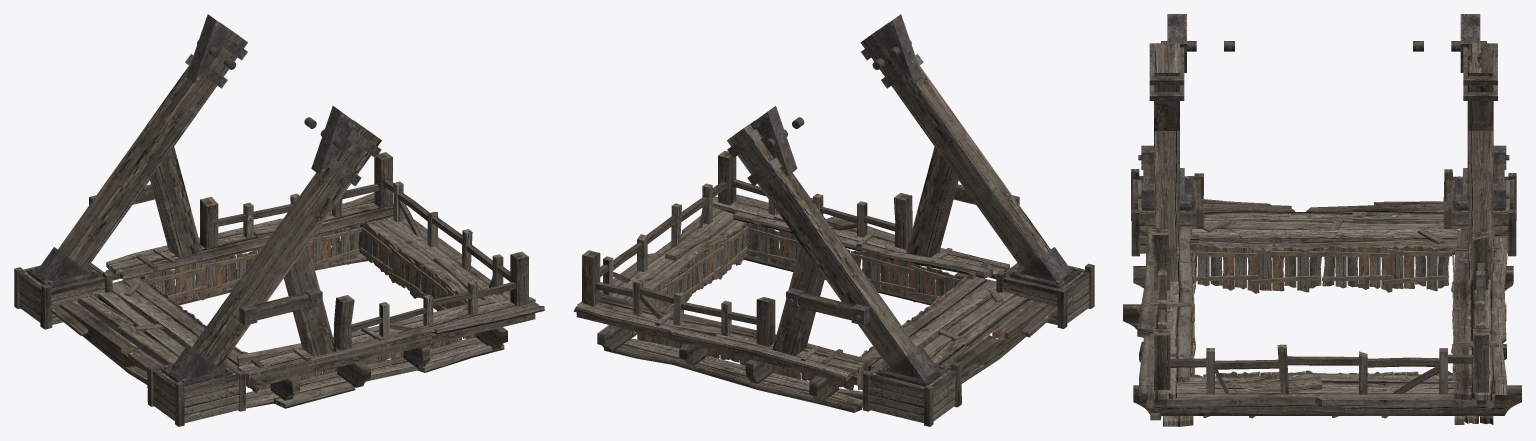
The model's file is bg_lut_lutomb_ev01a_sm_old.FBX.
3 renders of one model, left to right at view 1: azimuth 30°, elevation 25°; view 2: azimuth 150°, elevation 25°; view 3: azimuth 270°, elevation 25°, orthographic. The views are drawn at different scales.
Visible parts, largest first — view 1: bg_lut_lutomb_ev01a_sm_old; view 2: bg_lut_lutomb_ev01a_sm_old; view 3: bg_lut_lutomb_ev01a_sm_old.
Part boxes in pixels (x1,y1,x2,y2): bg_lut_lutomb_ev01a_sm_old: (14, 14, 544, 426); bg_lut_lutomb_ev01a_sm_old: (573, 14, 1094, 426); bg_lut_lutomb_ev01a_sm_old: (1123, 14, 1521, 426).
Bounding box in the file's own units: 612 × 436 × 487.
